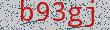3: (52, 1, 67, 28)
9: (33, 1, 50, 28)
b: (12, 1, 34, 27)
g: (66, 4, 83, 29)
j: (82, 1, 100, 29)
